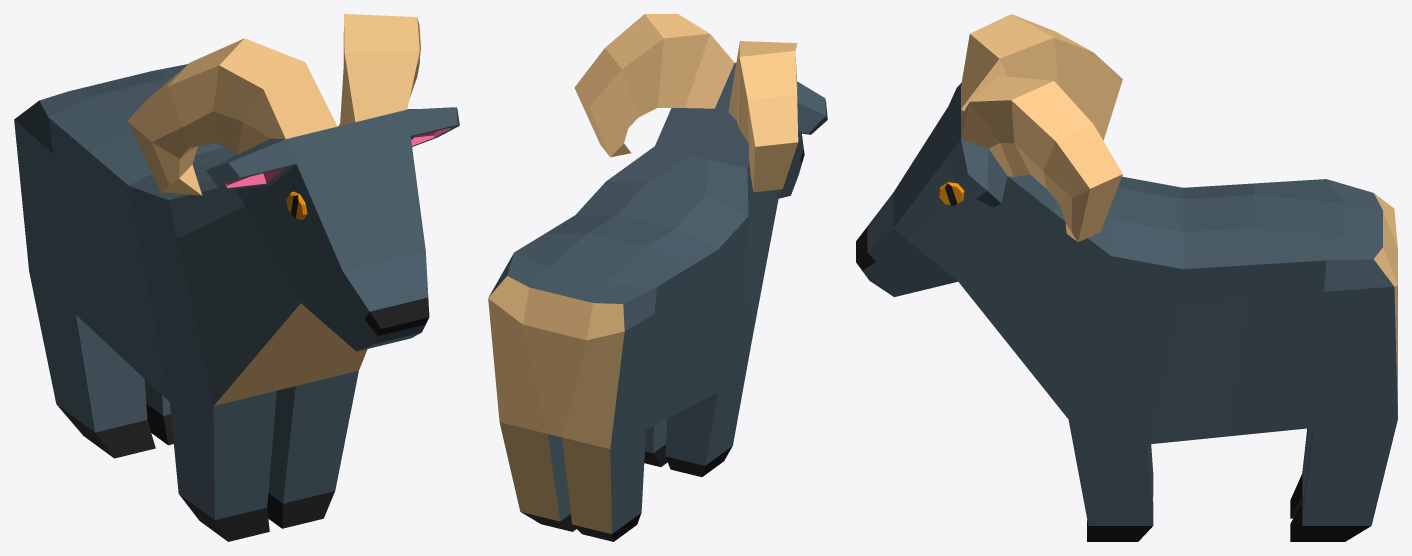
File: Goat.glb
3 views of the same model, side by side, from view 1: azimuth 30°, elevation 25°; view 2: azimuth 150°, elevation 25°; view 3: azimuth 270°, elevation 25° (orthographic). The views are drawn at different scales.
Parts seen in each view (by area): view 1: Ram_01_Cube.035; view 2: Ram_01_Cube.035; view 3: Ram_01_Cube.035.
Boxes of the visible parts, x1=… form: Ram_01_Cube.035: x1=14, y1=14, x2=459, y2=541; Ram_01_Cube.035: x1=488, y1=14, x2=827, y2=541; Ram_01_Cube.035: x1=856, y1=14, x2=1397, y2=541.
Bounding box in the file's own units: 17.75 × 30.02 × 31.77.
